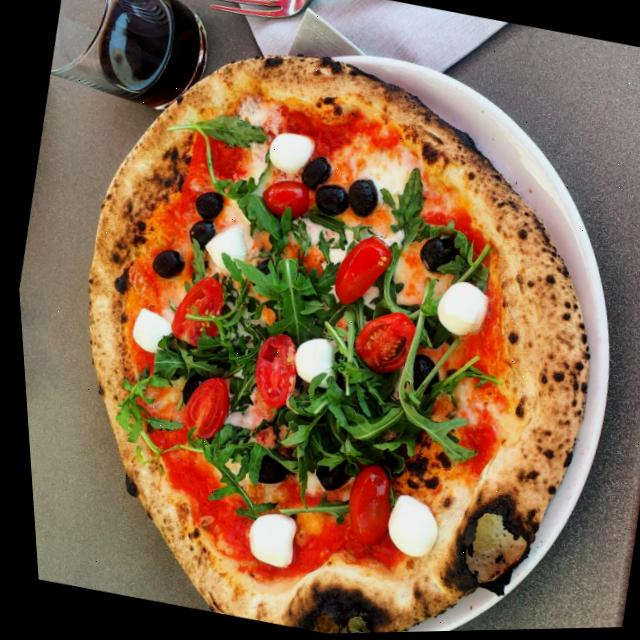black_olives: (410, 232, 460, 279), (302, 449, 347, 496), (396, 351, 439, 397), (339, 175, 380, 221), (293, 152, 332, 195), (246, 449, 287, 488), (308, 181, 349, 219), (144, 245, 184, 283), (180, 214, 215, 254), (187, 186, 224, 222), (172, 371, 203, 409), (245, 258, 273, 292)
pizza: (5, 7, 640, 640)
tomatoes: (330, 460, 397, 552), (323, 230, 393, 315), (160, 268, 228, 351), (341, 304, 415, 380), (239, 327, 300, 413), (169, 370, 229, 443), (253, 175, 310, 223)
